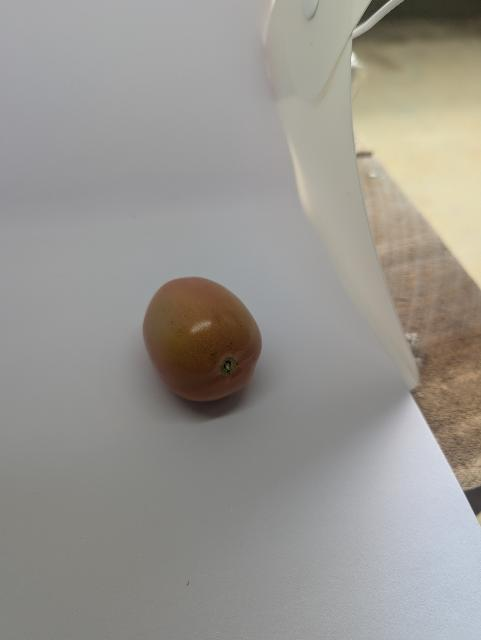turning: (141, 271, 268, 412)
